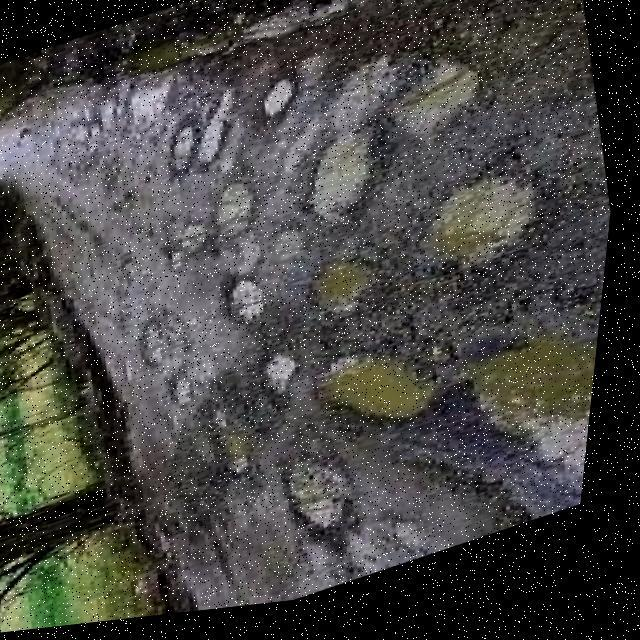pothole: (272, 31, 514, 250), (442, 316, 610, 556), (400, 158, 574, 311), (304, 333, 464, 462), (146, 176, 272, 281), (280, 452, 382, 562), (146, 94, 252, 190), (299, 252, 396, 331), (195, 412, 278, 489), (210, 272, 284, 344), (250, 352, 310, 416), (132, 322, 184, 378), (260, 74, 310, 124), (166, 376, 210, 422)
